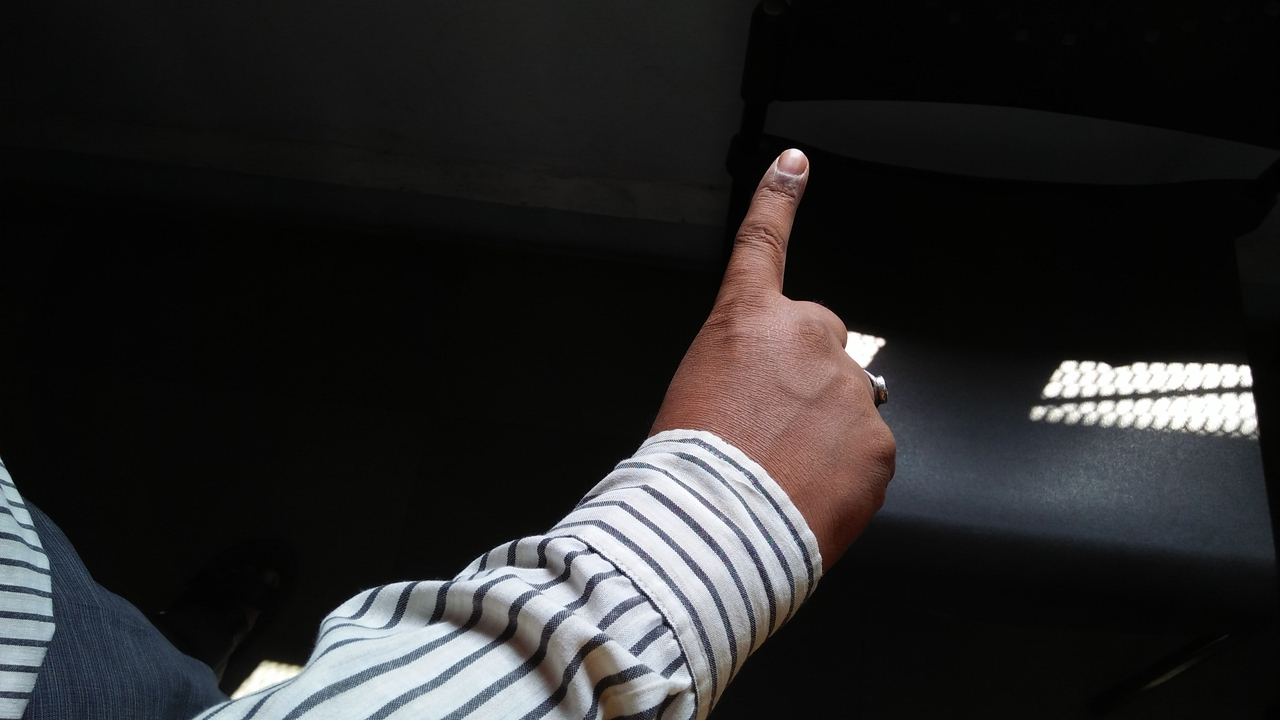fingertip: (762, 138, 822, 190)
